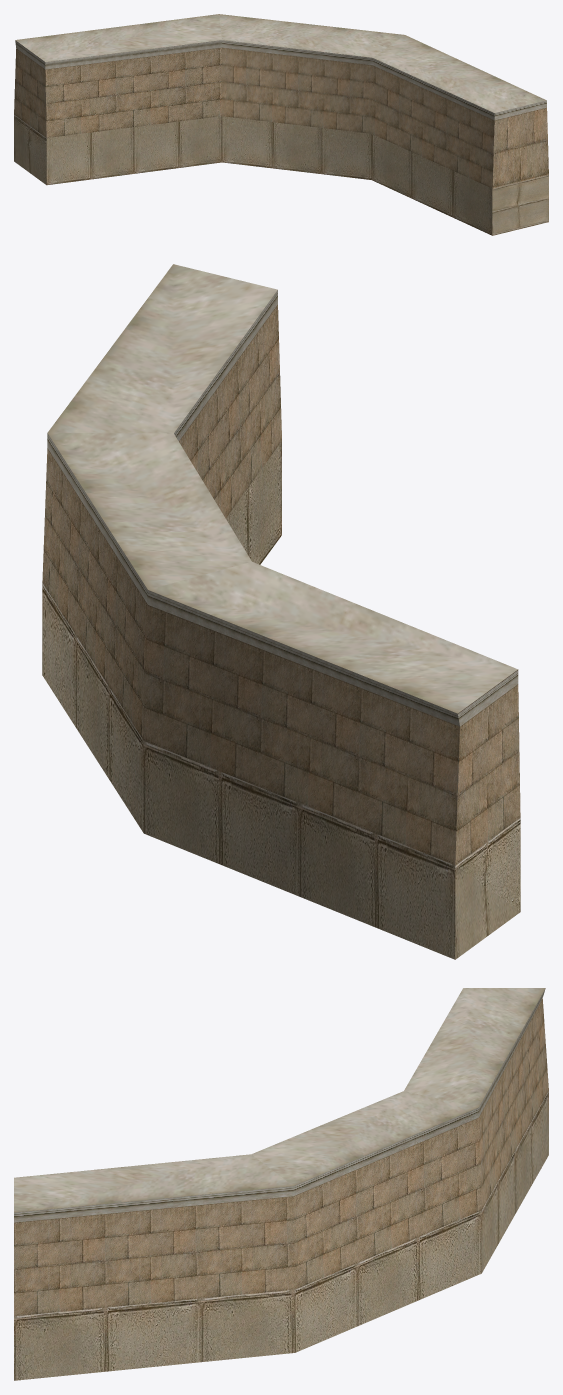
The model's file is thm_nboo_imprv_tall_curved_wall_large_s01_l2.fbx.
3 renders of one model, top to bottom at view 1: azimuth 30°, elevation 25°; view 2: azimuth 150°, elevation 25°; view 3: azimuth 270°, elevation 25°, orthographic. The views are drawn at different scales.
Parts seen in each view (by area): view 1: mesh_node; view 2: mesh_node; view 3: mesh_node.
Boxes of the visible parts, x1=… form: mesh_node: x1=14, y1=14, x2=548, y2=235; mesh_node: x1=42, y1=264, x2=520, y2=959; mesh_node: x1=14, y1=988, x2=548, y2=1380.
Size of the model in its own units: 8.72 by 3.01 by 8.73.
